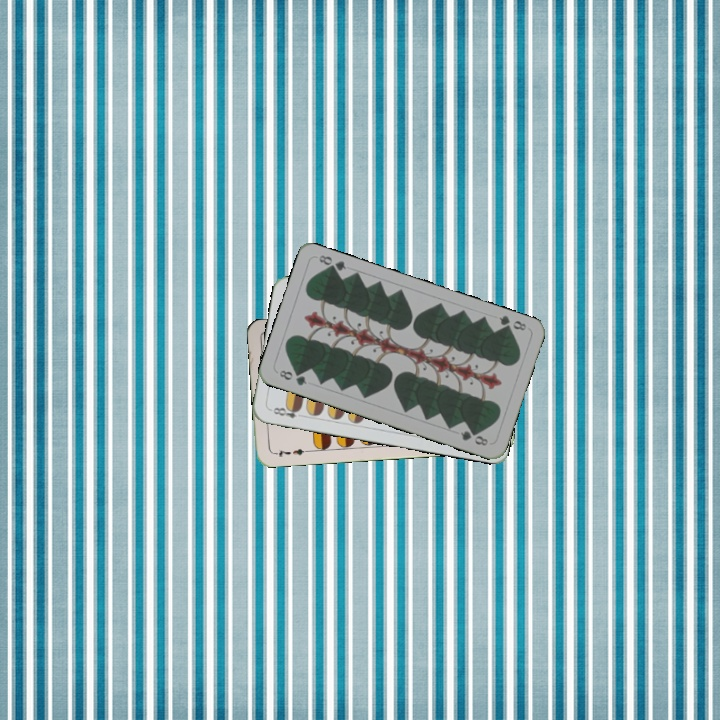E7: (270, 445, 310, 459)
E8: (266, 402, 306, 421)
G8: (495, 311, 529, 334), (275, 366, 309, 388)
